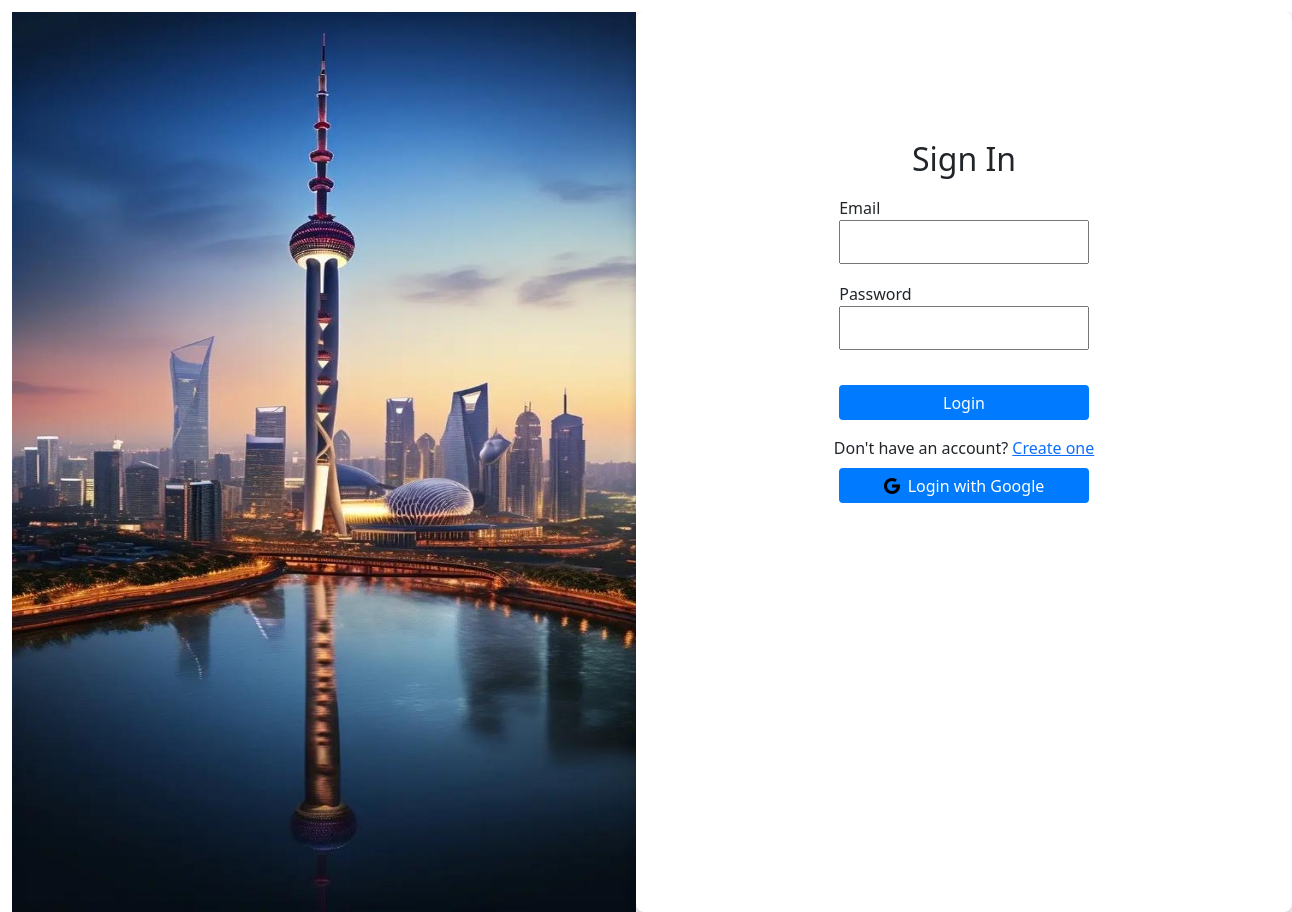
Login Component › should display error message on invalid login credentials
Type "invalid-email" into the field labelled "Email" at (964, 242), box x1=839 y1=220 x2=1089 y2=264
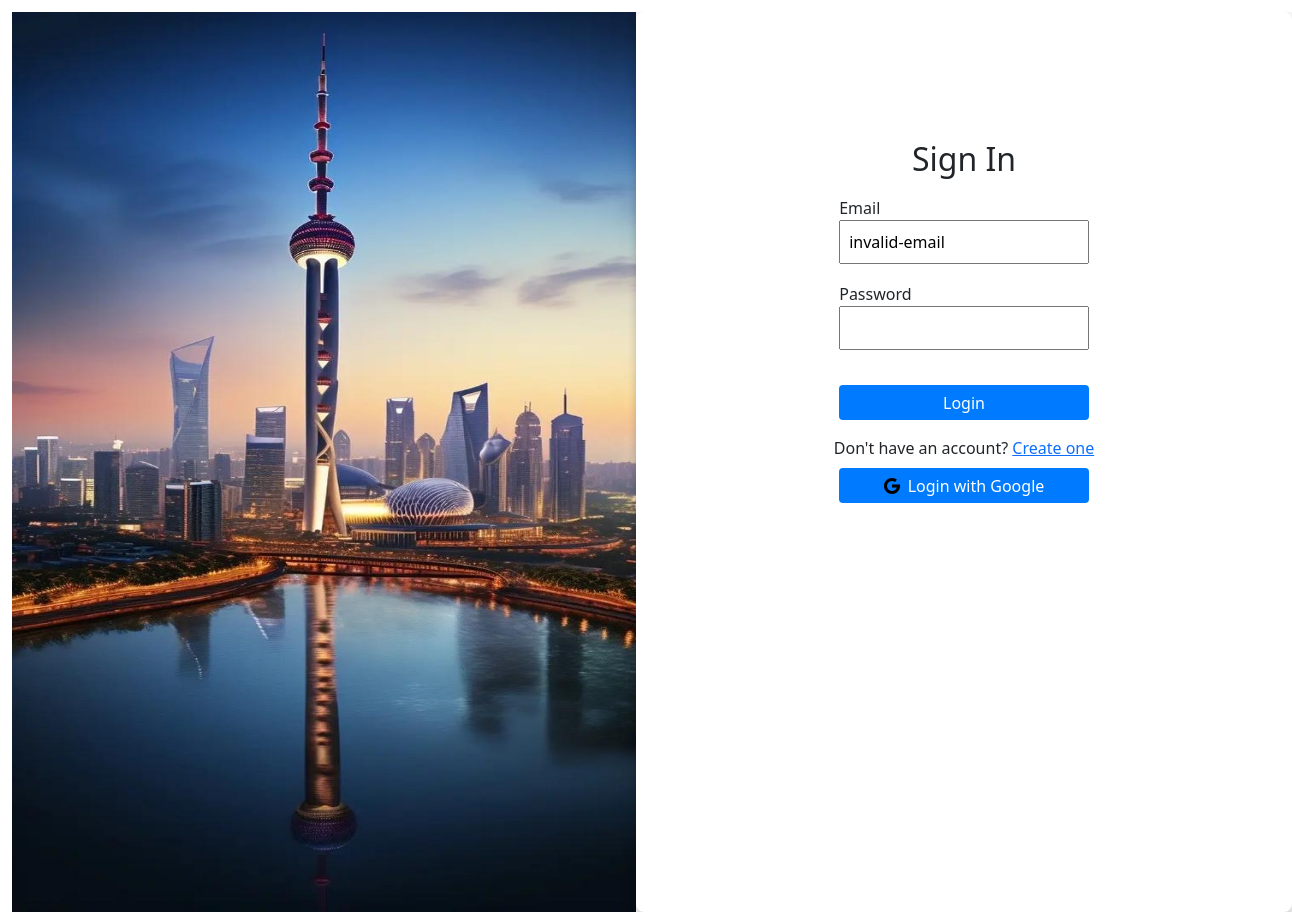
Type "password123" into the password field labelled "Password" at (964, 328), box x1=839 y1=306 x2=1089 y2=350
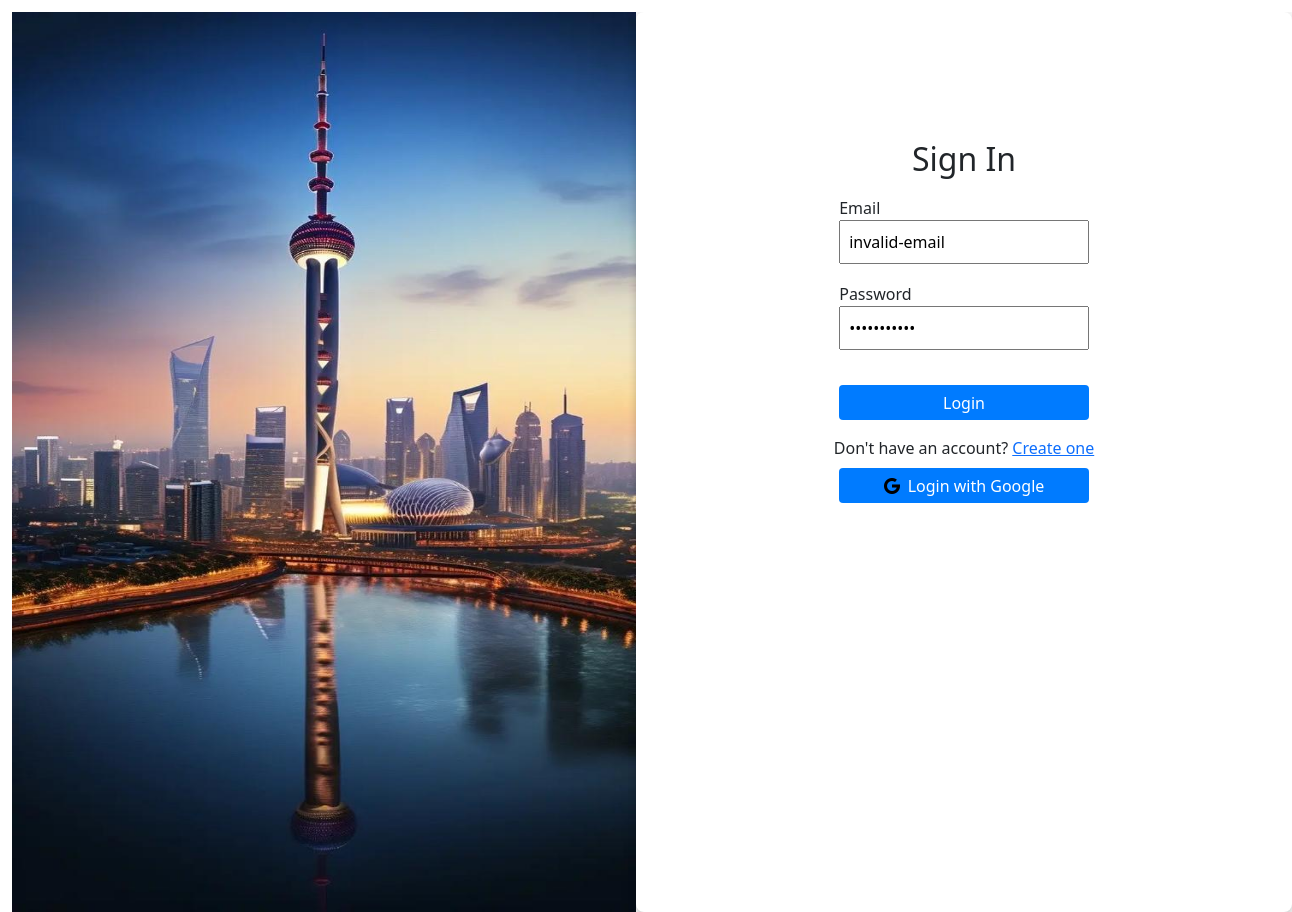
Click the button "Login" at (964, 403), box x1=839 y1=385 x2=1089 y2=420
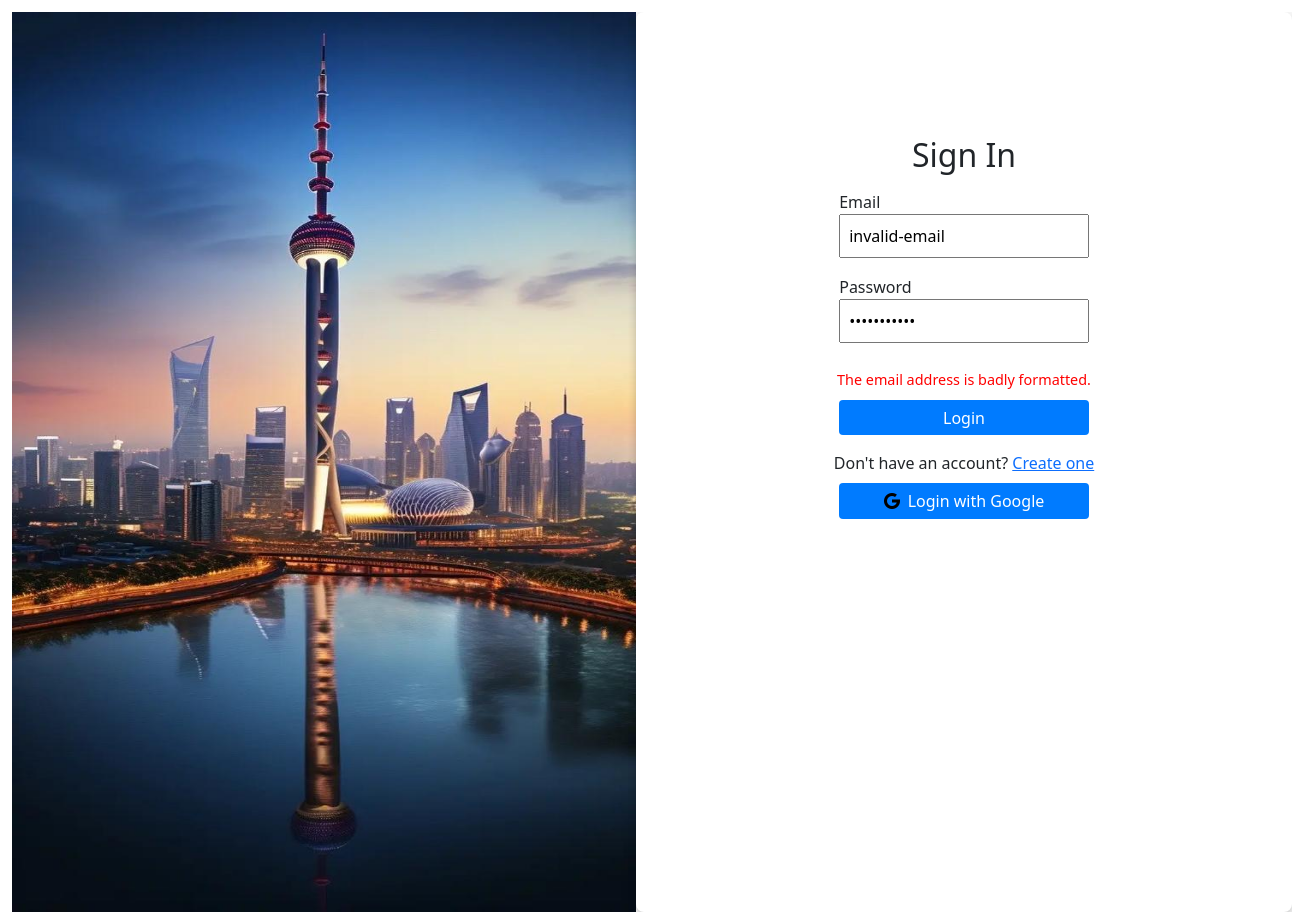
Expected: the text "The email address is badly formatted." is shown, x1=837 y1=369 x2=1091 y2=391
